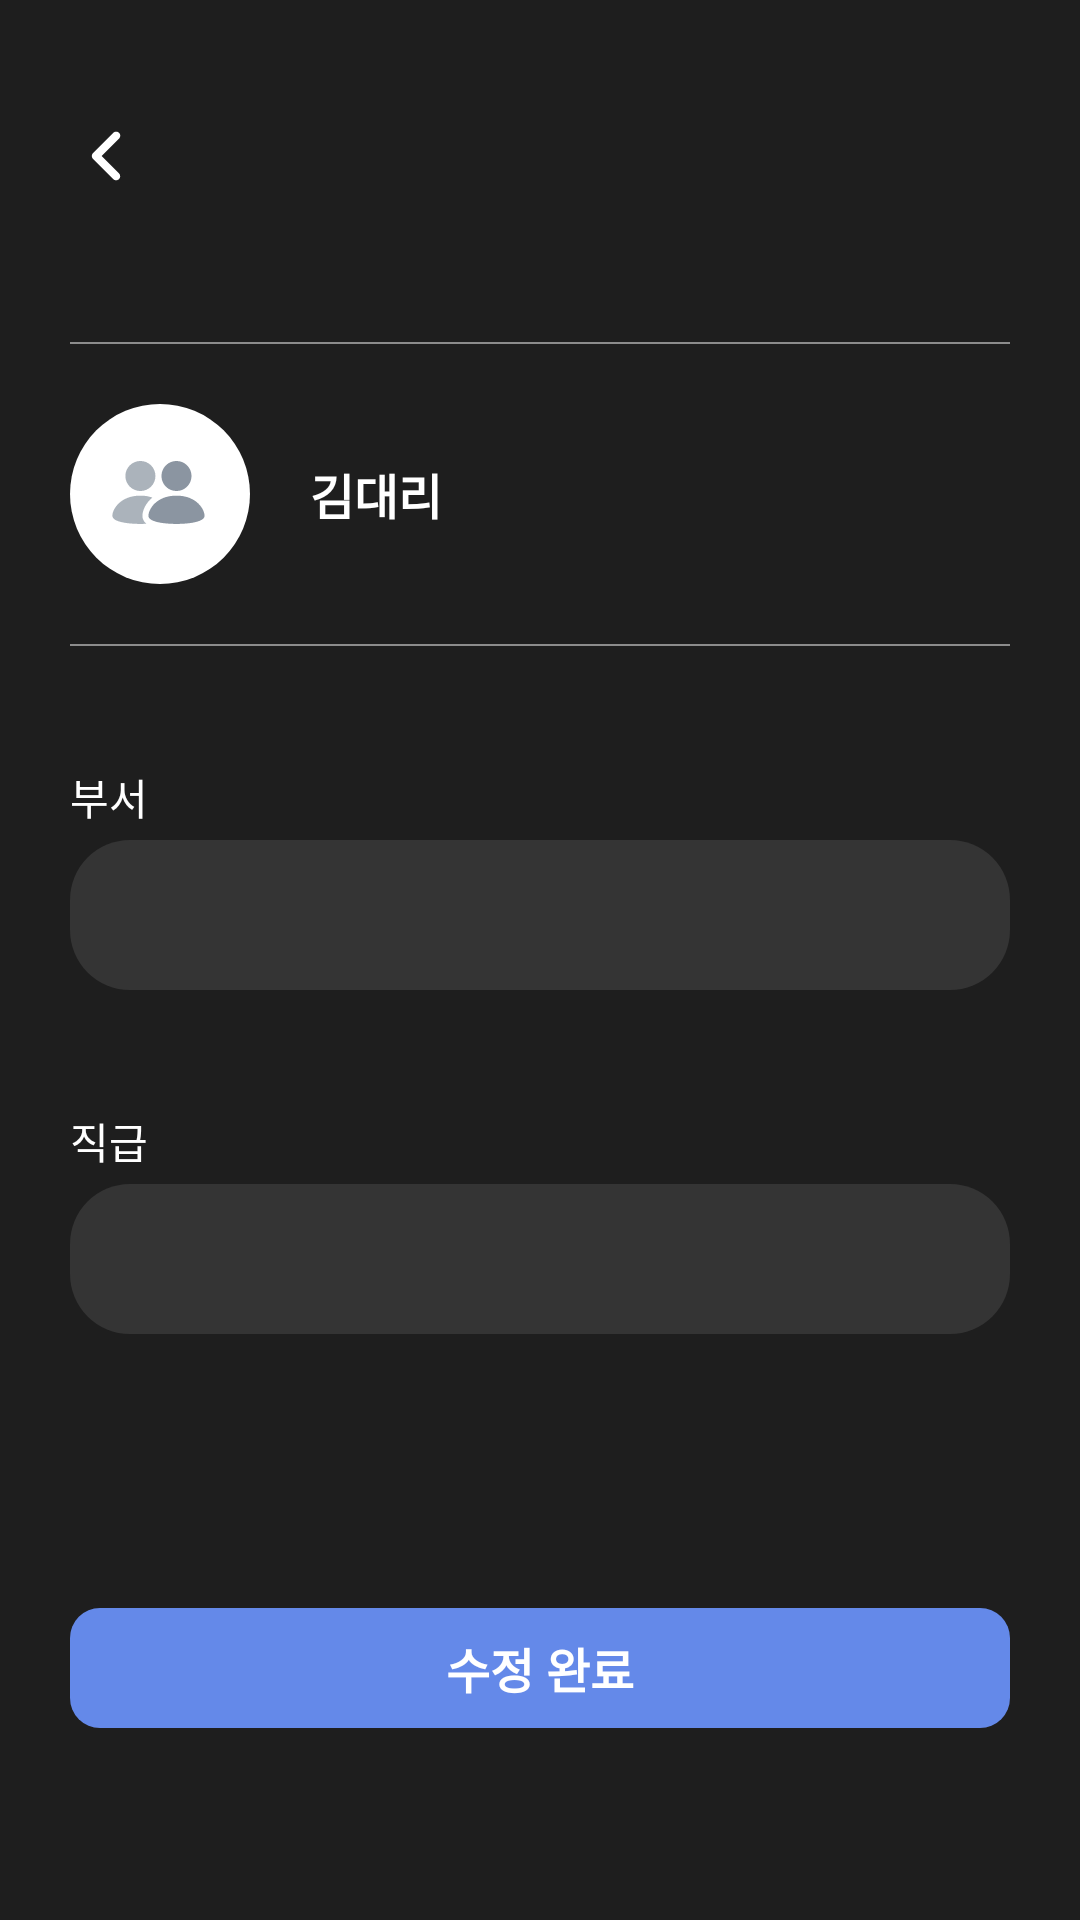

Icons on this 1080 x 1920 Android screen, each with its box as (x1,y1,x2,y2):
back: (91,131,121,181)
user: (70,404,250,584)
